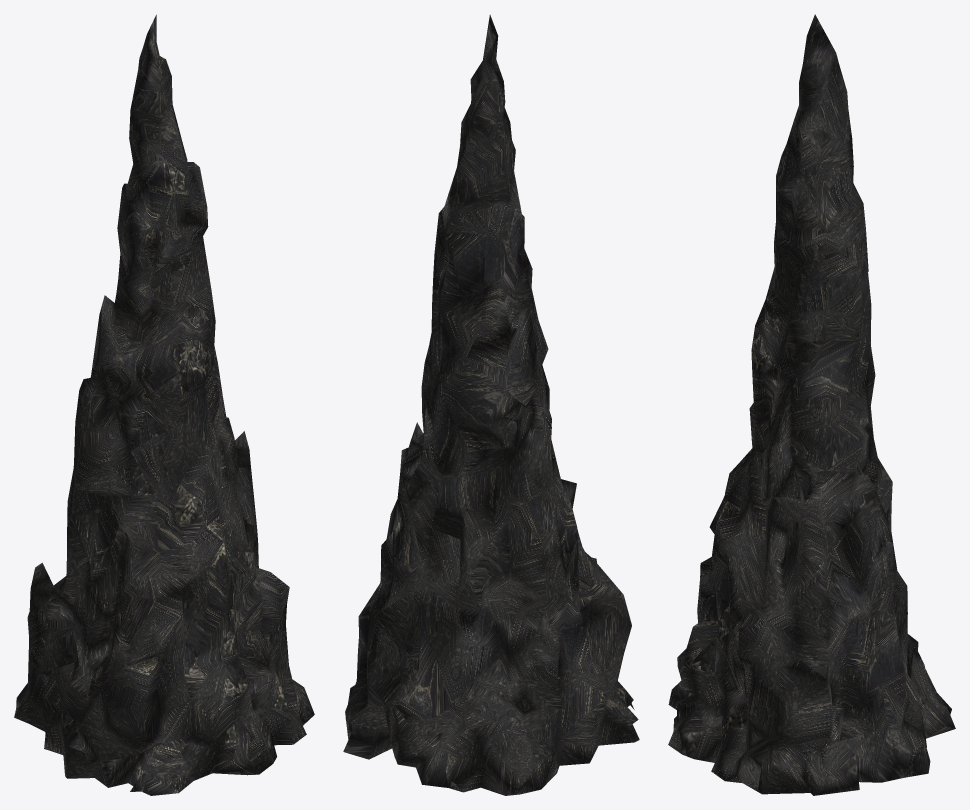
File: pinnacle.glb
The picture shows the model from 3 angles, left to right: view 1: azimuth 30°, elevation 25°; view 2: azimuth 150°, elevation 25°; view 3: azimuth 270°, elevation 25°; orthographic projection.
Bounding box in the file's own units: 0.7055 × 1.9 × 0.6902.
Materials: 1 (1 with a texture image).
